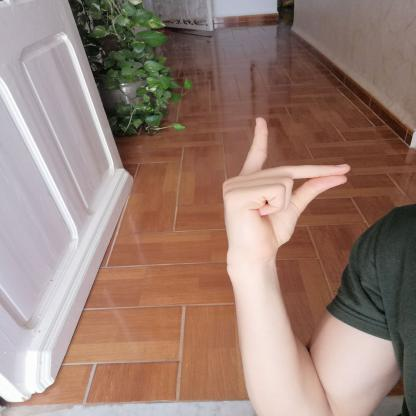TAA: (210, 110, 361, 263)
